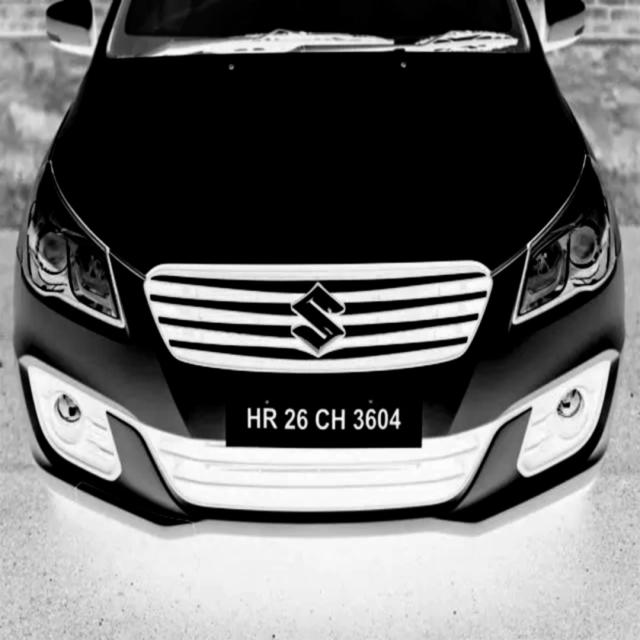Non_registered: (226, 394, 429, 450)
